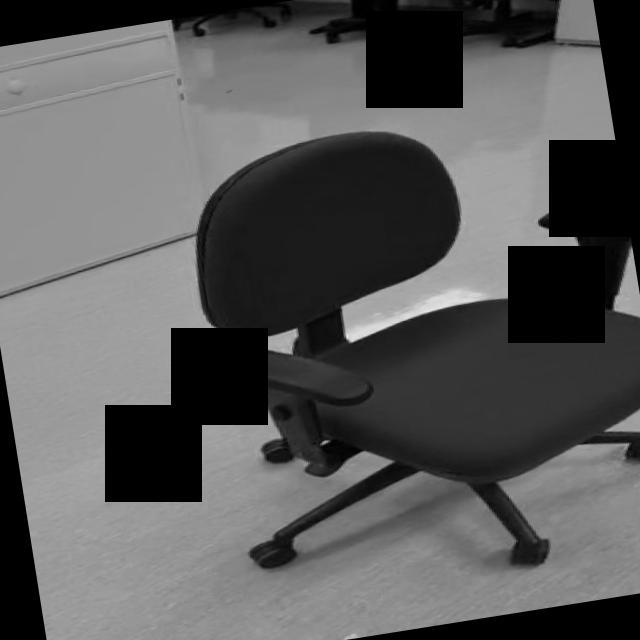chair: (174, 91, 640, 611)
